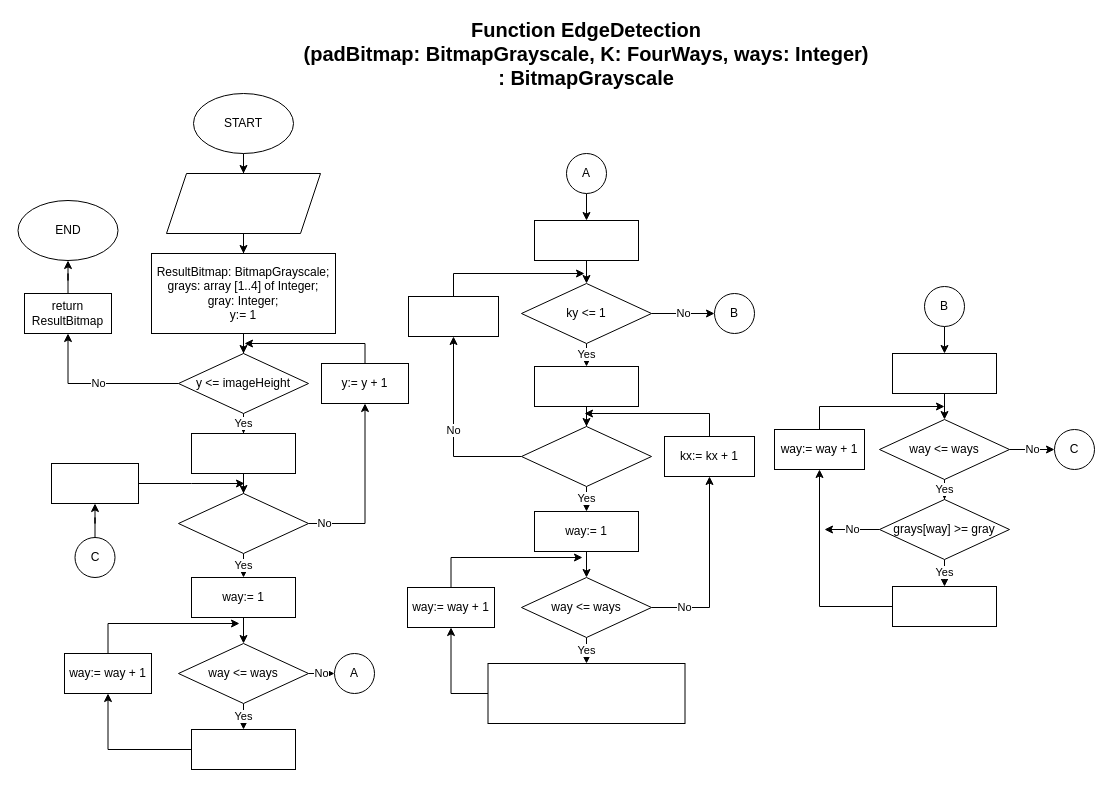
Image size: 1112x787. Some labels were removed from this diagram. Here are the shapes that lost their labels. From the top down, the box of each, then its label:
(166, 172, 320, 234): padBitmap, K, ways
(534, 220, 638, 260): ky:= -1
(408, 296, 498, 336): ky:= ky + 1
(534, 366, 638, 406): kx:= -1
(892, 352, 996, 394): gray:= 0 way:= 1
(190, 432, 296, 474): x:= 1
(520, 426, 652, 486): kx <= 1
(50, 462, 138, 504): x:= x + 1
(178, 492, 308, 554): x <= imageWidth
(892, 586, 996, 626): gray:= grays[way]
(487, 662, 685, 724): grays[way]:= grays[way] + (padBitmap[x-kx, y-ky] * K[way, kx, ky]);
(190, 728, 296, 770): grays[way]:= 0
